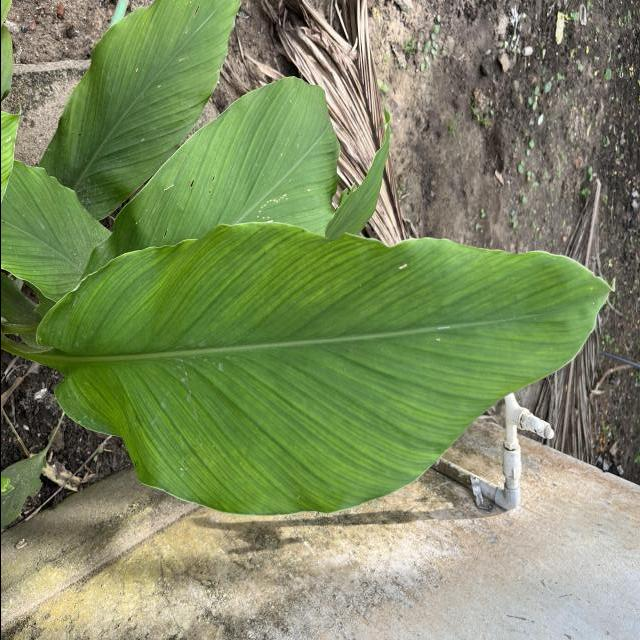Curcuma longa: (30, 210, 622, 522), (72, 70, 350, 282), (33, 0, 246, 217)
